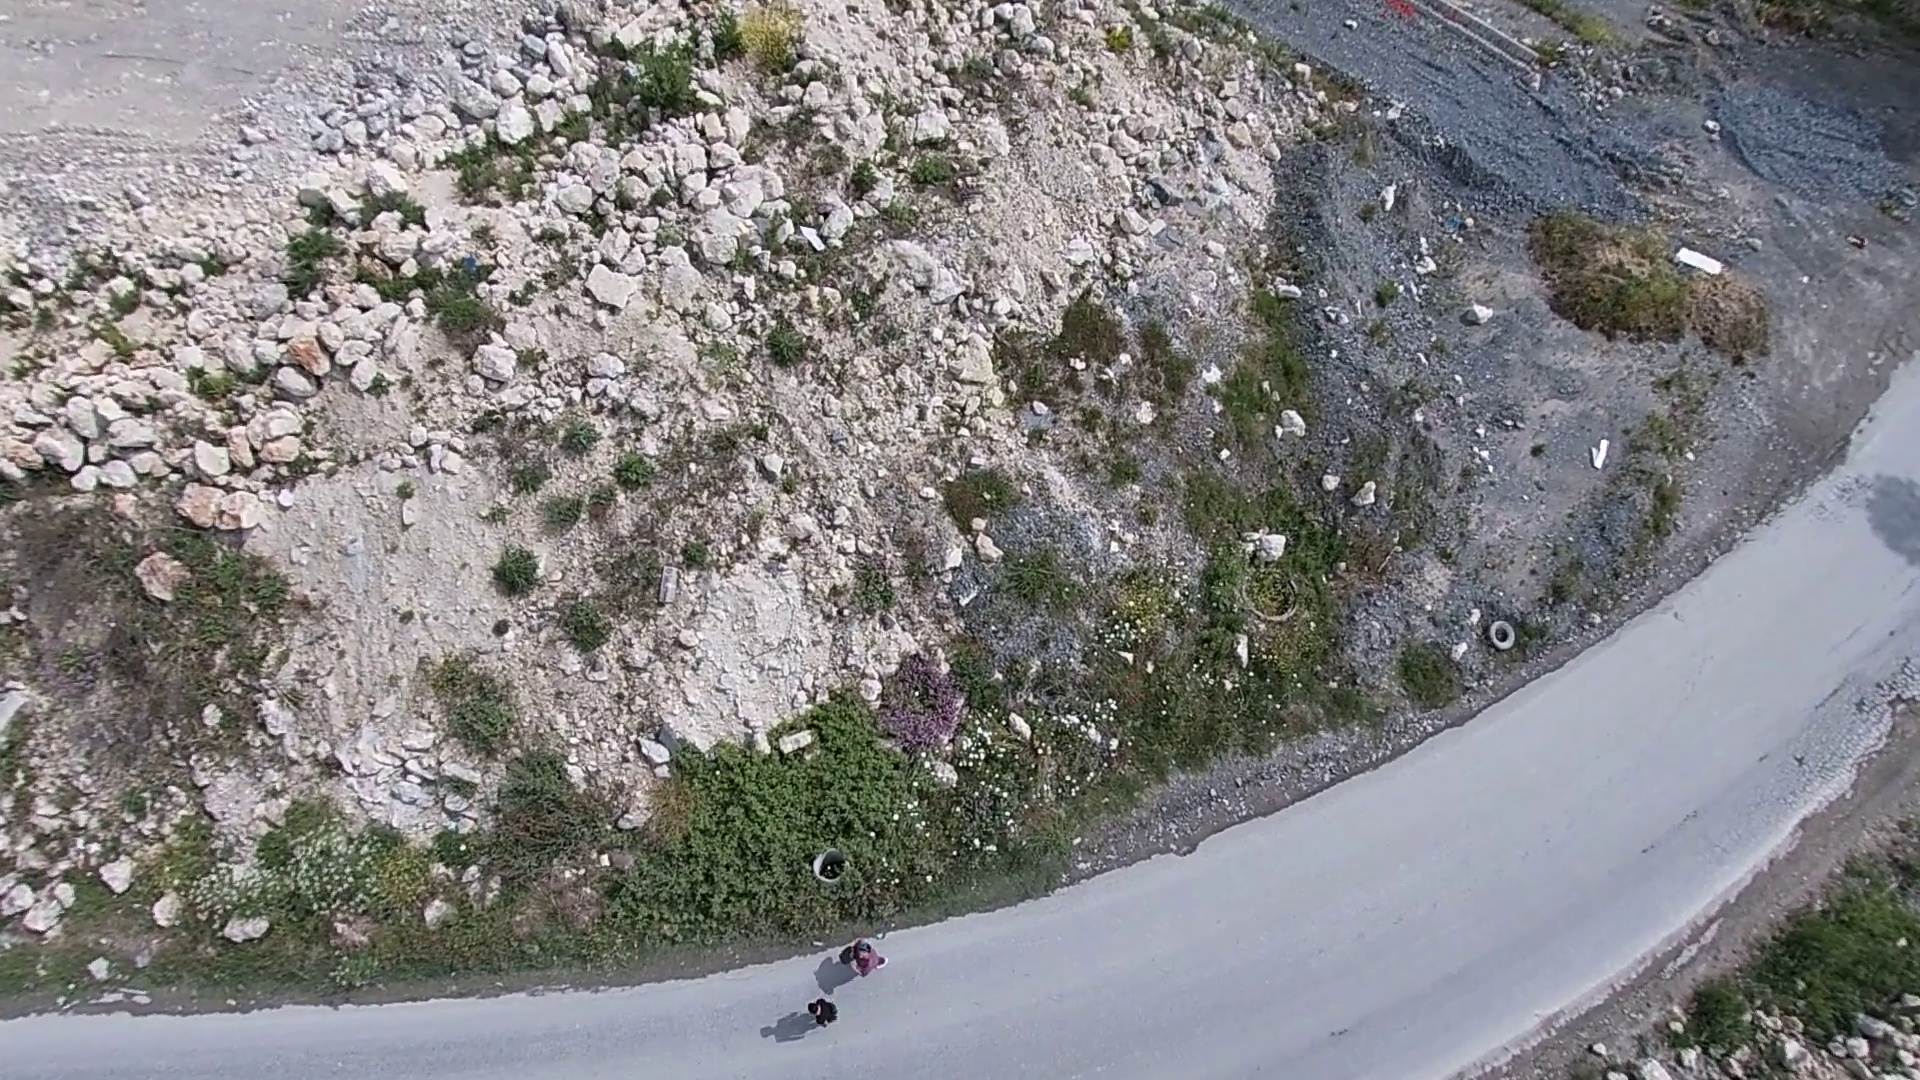insan: (835, 935, 891, 984), (800, 996, 844, 1032)
